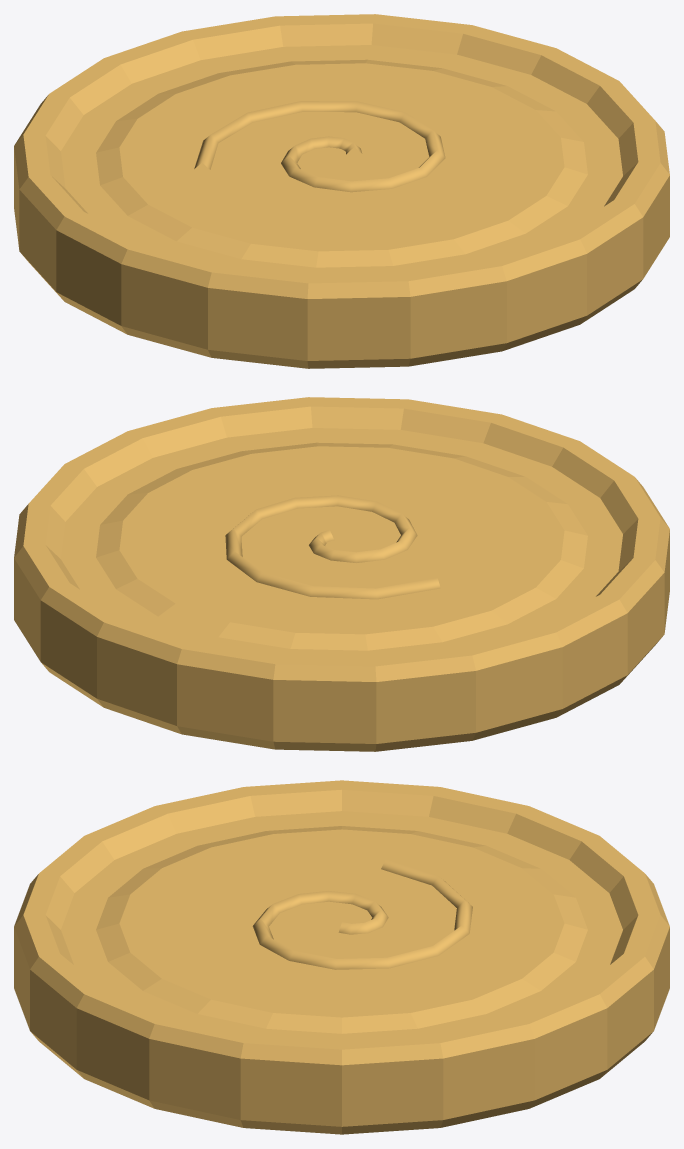
The model's file is medal_normal.glb.
The picture shows the model from 3 angles, top to bottom: view 1: azimuth 30°, elevation 25°; view 2: azimuth 150°, elevation 25°; view 3: azimuth 270°, elevation 25°; orthographic projection.
Parts seen in each view (by area): view 1: medal_normal.001; view 2: medal_normal.001; view 3: medal_normal.001.
Part boxes in pixels (x1,y1,x2,y2): medal_normal.001: (14,14,669,368); medal_normal.001: (14,397,669,751); medal_normal.001: (14,780,669,1134).
Size of the model in its own units: 0.56 by 0.08 by 0.56.
